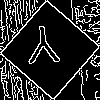Y: (25, 25, 62, 73)
